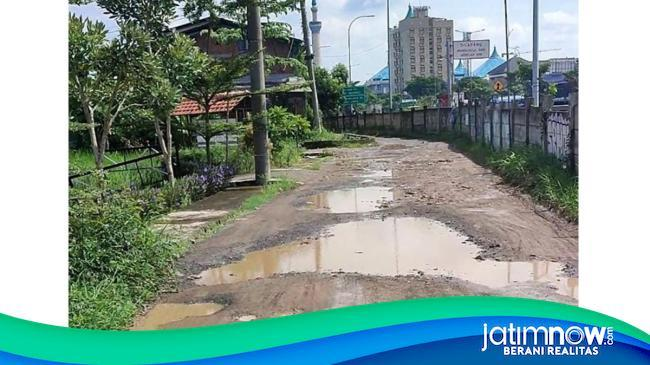Pothole: (186, 214, 589, 297), (306, 163, 406, 216), (133, 294, 242, 321)
